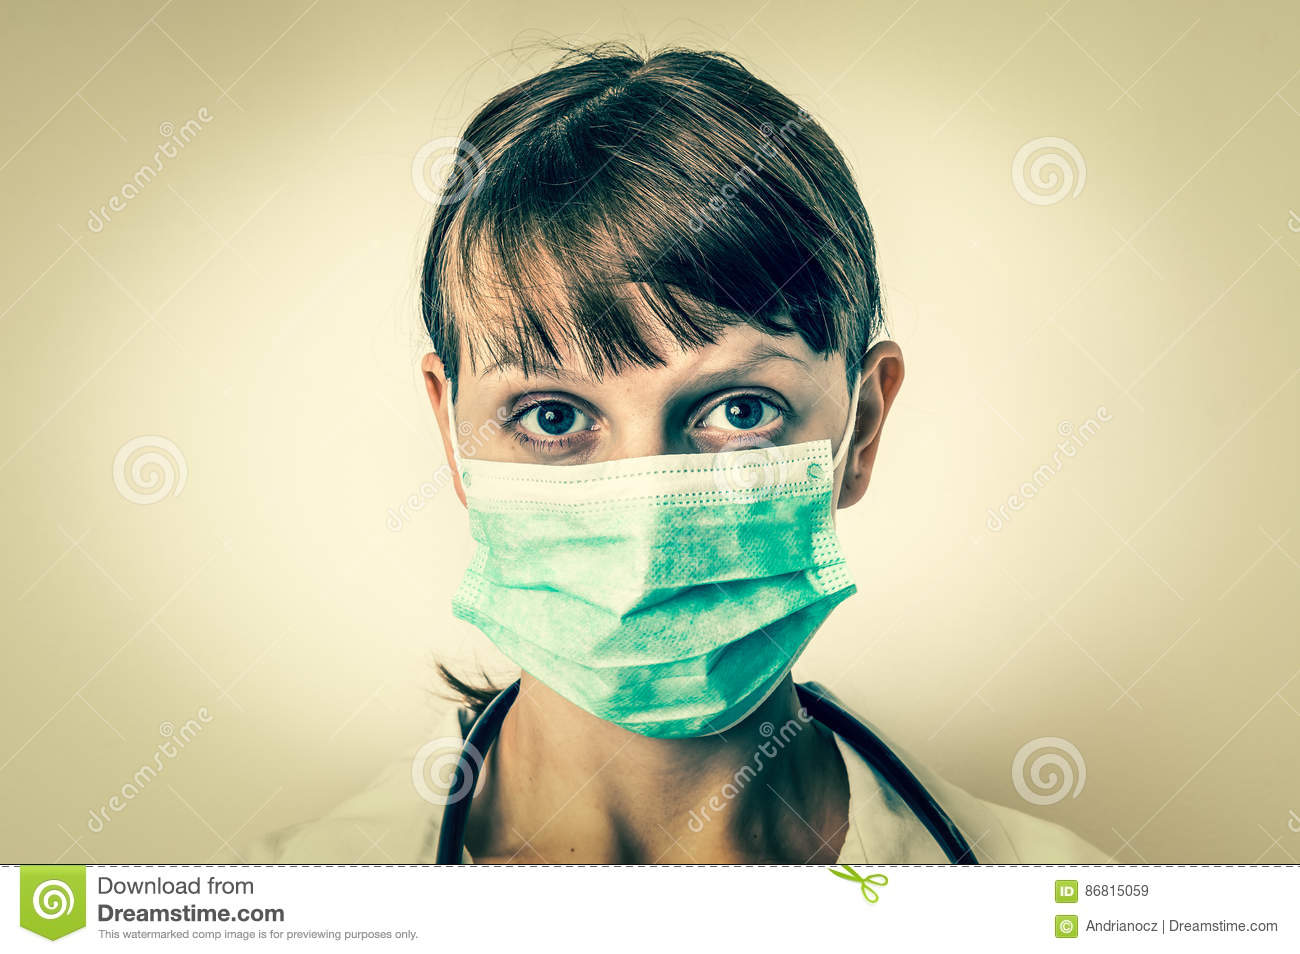mask: (457, 461, 857, 746)
